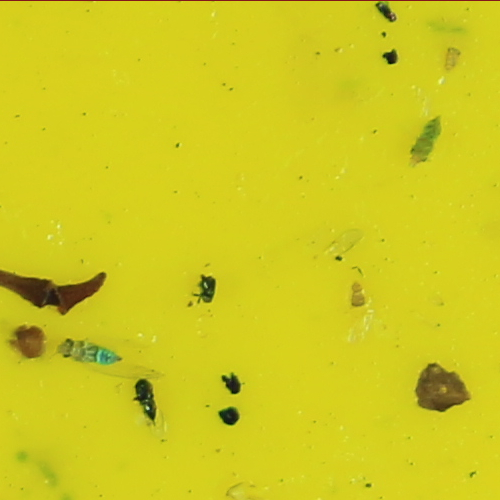psylla: (400, 116, 448, 175), (52, 334, 126, 369), (438, 46, 465, 72), (348, 284, 369, 310)
wasp: (131, 379, 158, 425)
